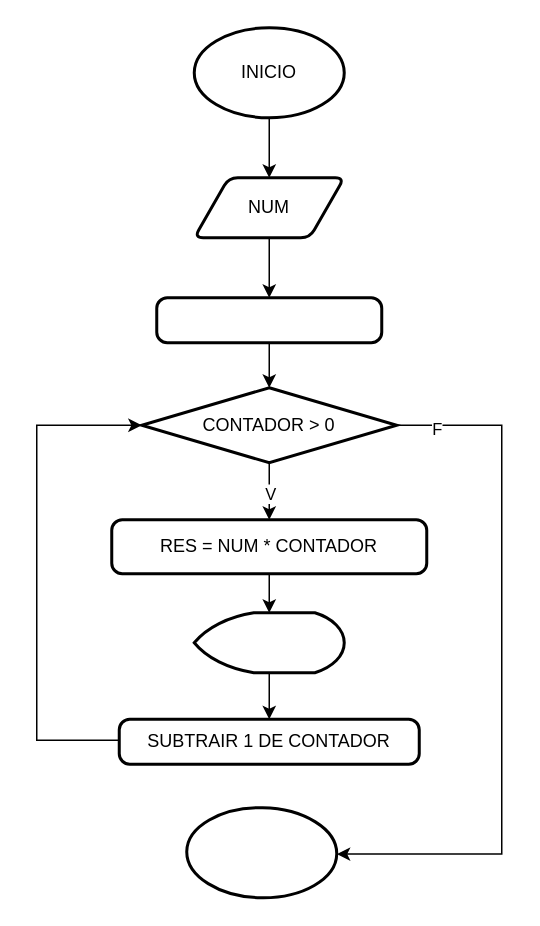
Image size: 540x926. Some labels were removed from this diagram. Each missing label, with the centre of its shape:
CONTADOR = 100: point 268,320
FIM: point 261,852
RES: point 268,642
